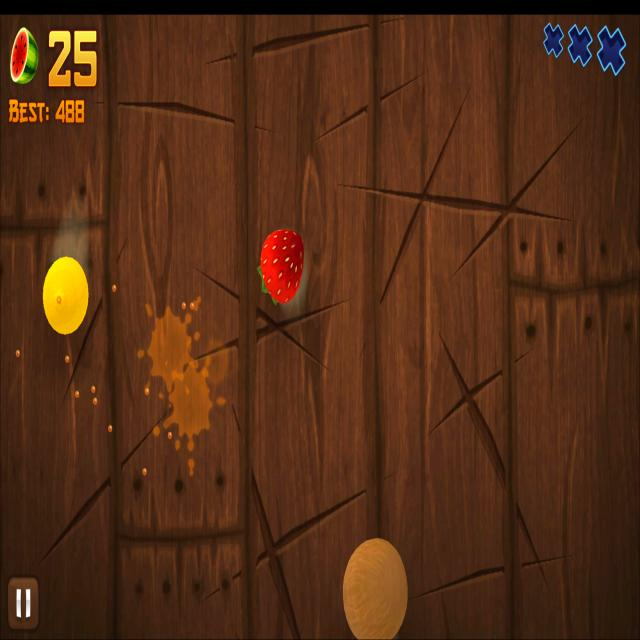fruit: (342, 536, 407, 640), (43, 256, 89, 335), (259, 227, 304, 304)
